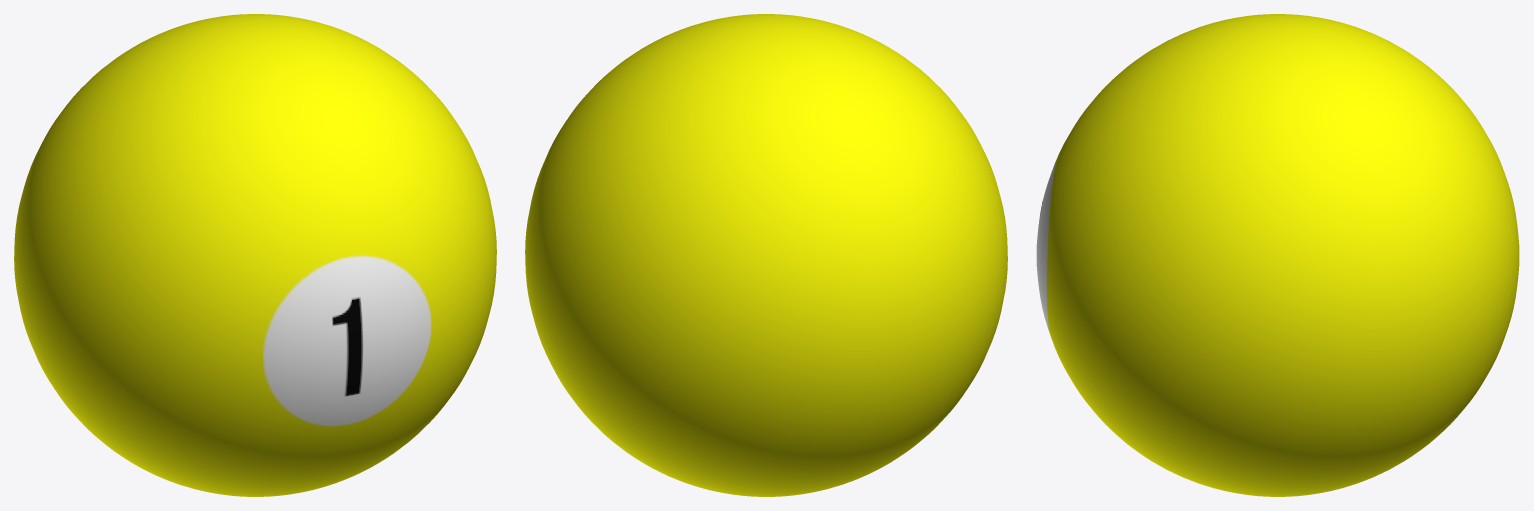
File: Ball1.obj
3 views of the same model, side by side, from view 1: azimuth 30°, elevation 25°; view 2: azimuth 150°, elevation 25°; view 3: azimuth 270°, elevation 25° (orthographic).
Visible parts, largest first — view 1: Sphere; view 2: Sphere; view 3: Sphere.
Part boxes in pixels (x1,y1,x2,y2): Sphere: [14, 14, 496, 496]; Sphere: [525, 14, 1007, 496]; Sphere: [1036, 14, 1519, 496].
Bounding box in the file's own units: 2 × 2 × 2.
1 material, 1 textured.
